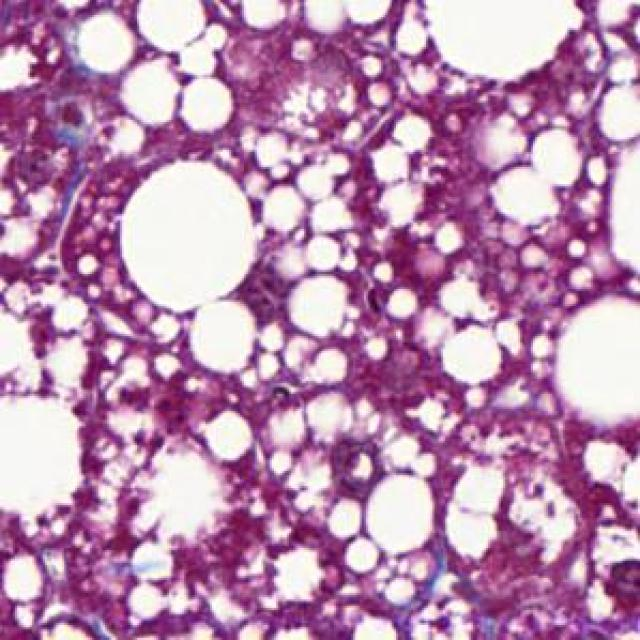steatosis: (129, 162, 261, 314), (439, 328, 505, 388)
